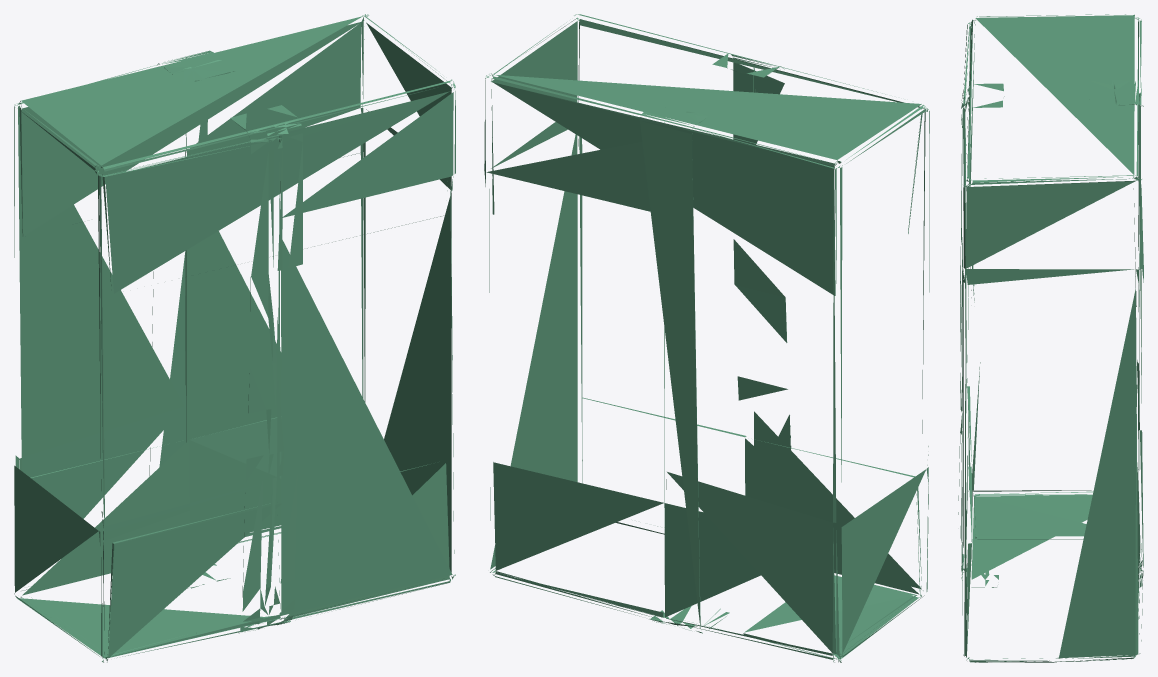
Rendered from box_printer_white_b02.glb.
3 renders of one model, left to right at view 1: azimuth 30°, elevation 25°; view 2: azimuth 150°, elevation 25°; view 3: azimuth 270°, elevation 25°, orthographic. The views are drawn at different scales.
Visible parts, largest first — view 1: geometry_0; view 2: geometry_0; view 3: geometry_0.
Part boxes in pixels (bbox=[...]): geometry_0: bbox=[14, 14, 455, 662]; geometry_0: bbox=[484, 14, 929, 662]; geometry_0: bbox=[958, 14, 1143, 662].
Size of the model in its own units: 0.3545 by 0.48 by 0.1654.
